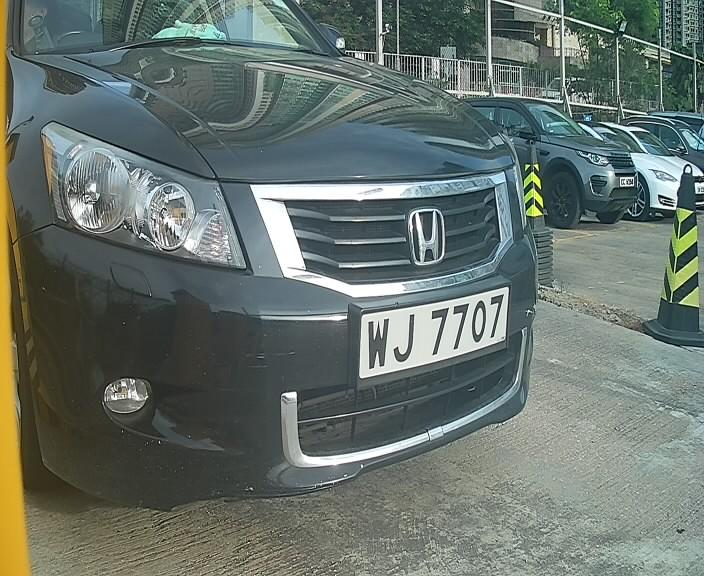Car: (16, 3, 610, 512)
License Plate: (349, 278, 510, 386)
